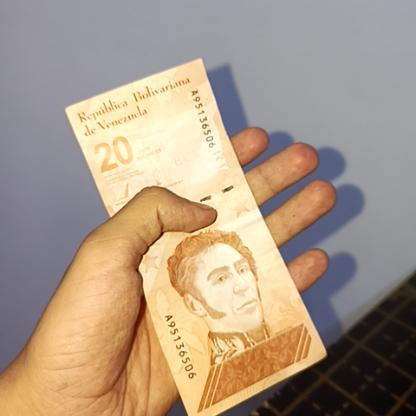twenty-front-vef: (57, 55, 327, 416)
